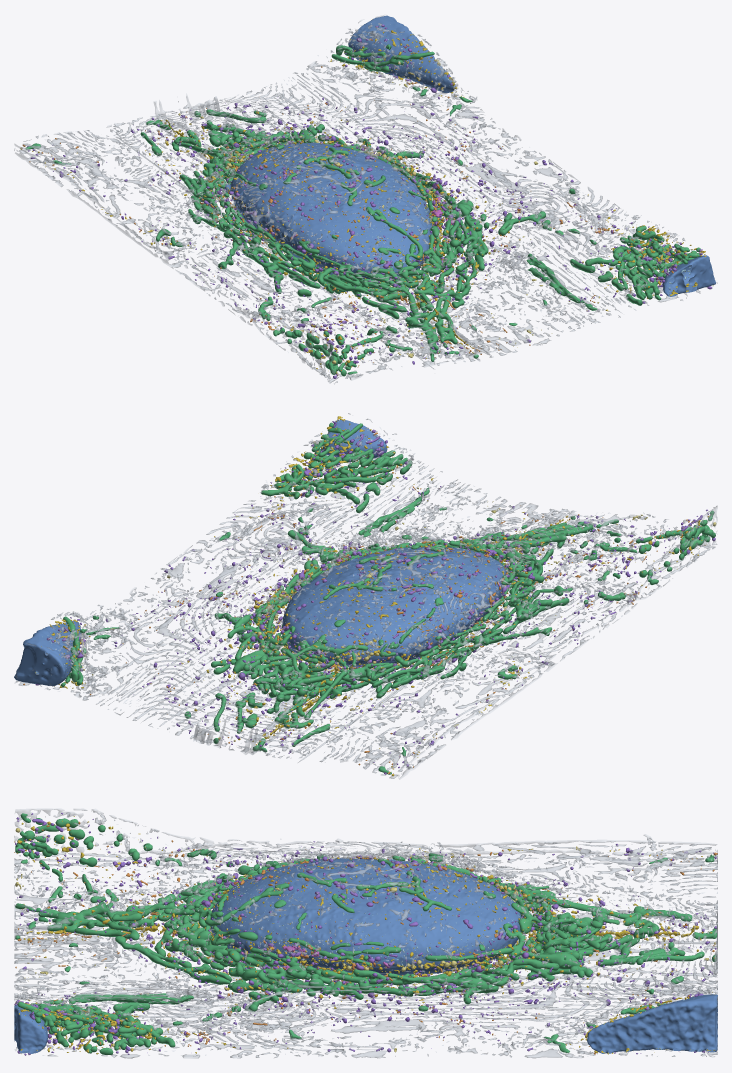
The model's file is hela_wholecell.glb.
3 renders of one model, top to bottom at view 1: azimuth 30°, elevation 25°; view 2: azimuth 150°, elevation 25°; view 3: azimuth 270°, elevation 25°, orthographic. The views are drawn at different scales.
Parts seen in each view (by area): view 1: organelles, plasma_membrane; view 2: organelles, plasma_membrane; view 3: organelles, plasma_membrane.
Part boxes in pixels (x1,y1,x2,y2): organelles: (20,15,715,378); plasma_membrane: (14,15,717,384); organelles: (14,416,716,776); plasma_membrane: (15,413,717,779); organelles: (14,813,717,1055); plasma_membrane: (14,808,717,1058).
Size of the model in its own units: 33315 by 6336 by 47968.
